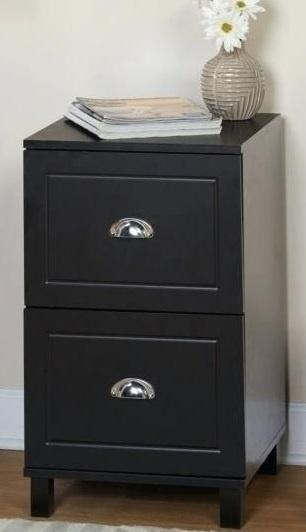cabinet_door: (28, 171, 241, 310), (28, 325, 239, 464)
handle: (109, 370, 158, 409), (108, 214, 156, 250)
